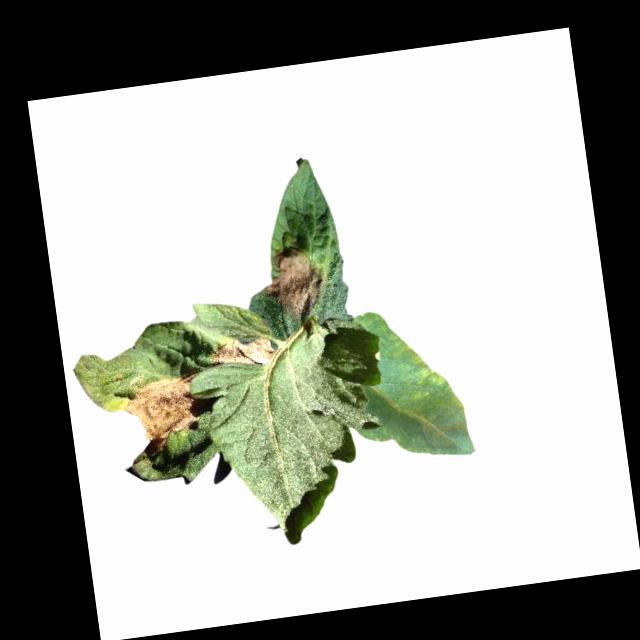Late_blight: (120, 370, 214, 459), (248, 243, 330, 326), (386, 337, 446, 404), (207, 333, 275, 368)
healthy: (187, 322, 395, 557)
